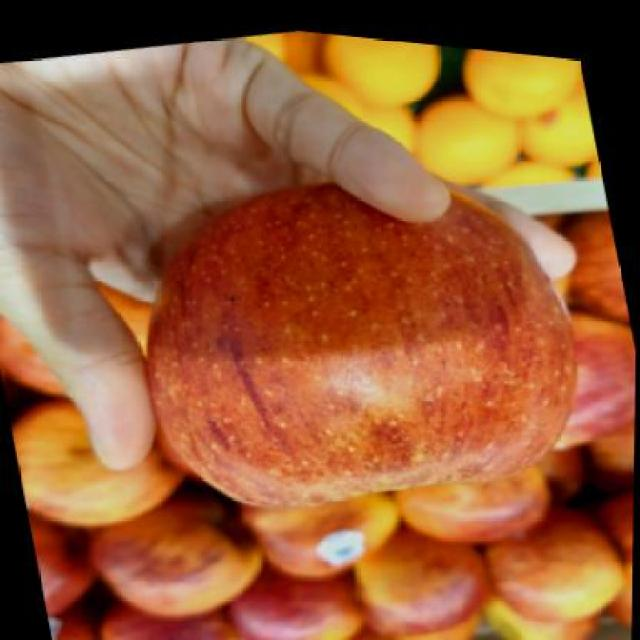Fresh Apple: (137, 178, 600, 521)
